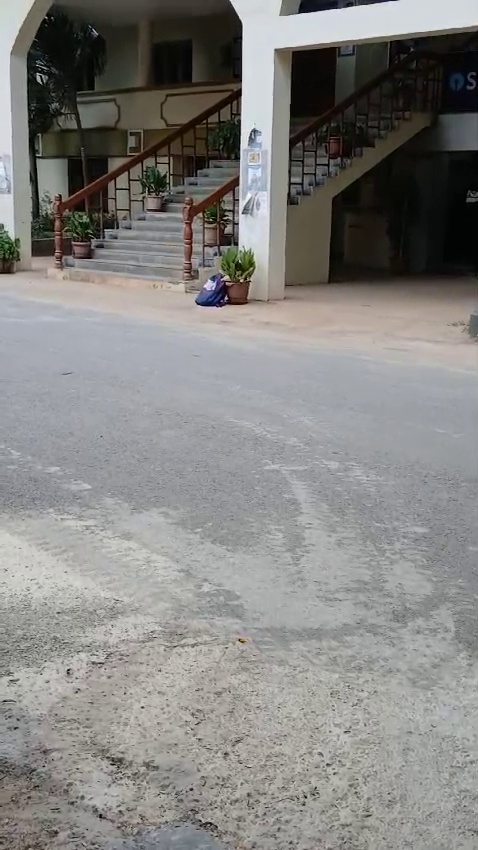bag: (189, 265, 229, 311)
